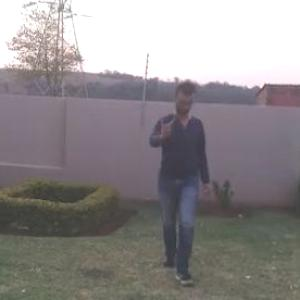takeoff-hand: (152, 110, 178, 140)
